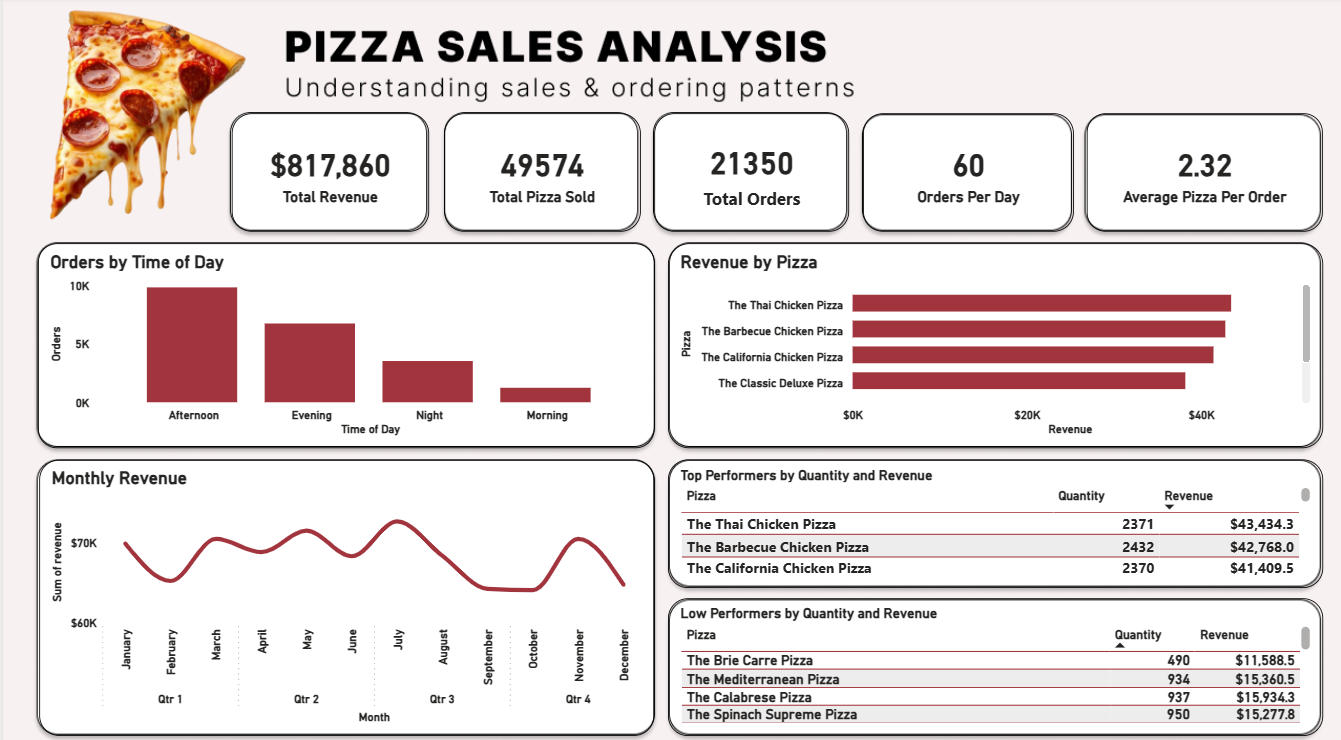

The page's visual inventory and layout, read from the dashboard file:
{"tool":"powerbi","page":{"name":"Pizza Sales Dashboard","canvas":[1280,720],"ordinal":0},"visuals":[{"type":"card","fields":{"Values":["Sum(order_details.Revenue)"]},"box":[217.9,110.7,188.1,113.1],"z":0},{"type":"card","fields":{"Values":["Orders Summary.Sum of Pizza Sold"]},"box":[420.2,110.7,186.9,113.1],"z":1000},{"type":"card","fields":{"Values":["Count(orders.order_id)"]},"box":[620.2,110.7,185.7,113.1],"z":2000},{"type":"card","fields":{"Values":["orders.Customers Per Day"]},"box":[819.1,110.7,201.2,113.1],"z":3000},{"type":"card","fields":{"Values":["Orders Summary.Average Pizza Per Orders"]},"box":[1032.1,110.7,225,113.1],"z":4000},{"type":"columnChart","fields":{"Category":["orders.Time of the Day"],"Y":["Count(orders.order_id)"]},"box":[33.3,234.5,586.9,195.2],"z":5000},{"type":"barChart","fields":{"Category":["pizza_types.name"],"Y":["Sum(order_details.revenue)"]},"box":[633.3,234.5,623.8,195.2],"z":6000},{"type":"lineChart","title":"Monthly Revenue","fields":{"Y":["Sum(order_details.Revenue)"],"Category":["orders.date.Variation.Date Hierarchy.Quarter","orders.date.Variation.Date Hierarchy.Month"]},"box":[34.5,440.5,585.7,263.1],"z":7000},{"type":"tableEx","title":"Top Performers by Quantity and Revenue","fields":{"Values":["pizza_types.name","Sum(order_details.quantity)","Sum(order_details.Revenue)"]},"box":[633.3,440.5,623.8,122.6],"z":8000},{"type":"tableEx","title":"Low Performers by Quantity and Revenue","fields":{"Values":["pizza_types.name","Sum(order_details.quantity)","Sum(order_details.Revenue)"]},"box":[633.3,572.6,623.8,131],"z":9000}]}

Visuals, with their boxes in screenshot pixels (x1, y1, x2, y2), scaled from the page's 1280x720 canvas onto the 1341x740 screenshot:
card - Sum(order_details.Revenue): [left=228, top=114, right=425, bottom=230]
card - Orders Summary.Sum of Pizza Sold: [left=440, top=114, right=636, bottom=230]
card - Count(orders.order_id): [left=650, top=114, right=844, bottom=230]
card - orders.Customers Per Day: [left=858, top=114, right=1069, bottom=230]
card - Orders Summary.Average Pizza Per Orders: [left=1081, top=114, right=1317, bottom=230]
columnChart - orders.Time of the Day x Count(orders.order_id): [left=35, top=241, right=650, bottom=442]
barChart - pizza_types.name x Sum(order_details.revenue): [left=663, top=241, right=1317, bottom=442]
"Monthly Revenue" lineChart: [left=36, top=453, right=650, bottom=723]
"Top Performers by Quantity and Revenue" tableEx: [left=663, top=453, right=1317, bottom=579]
"Low Performers by Quantity and Revenue" tableEx: [left=663, top=589, right=1317, bottom=723]
